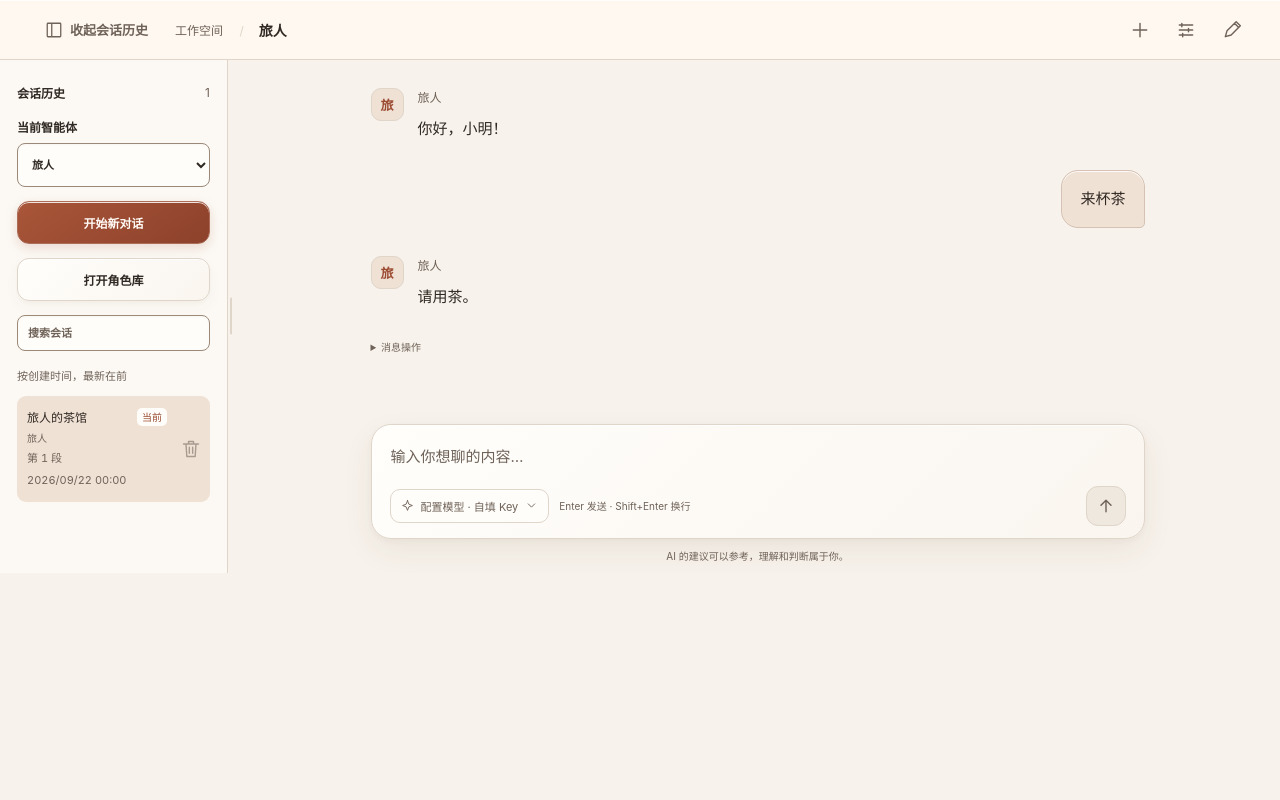
Scenario: keeps a tavern canvas closed even when AI drawing was previously enabled, and can open it manually
Expected: the text "请用茶。" is shown, [418,286,478,306]
Expected: the element "教学画布" is not shown
Click the button named "教学画布".
click(1232, 30)  # box [1212,10,1252,50]
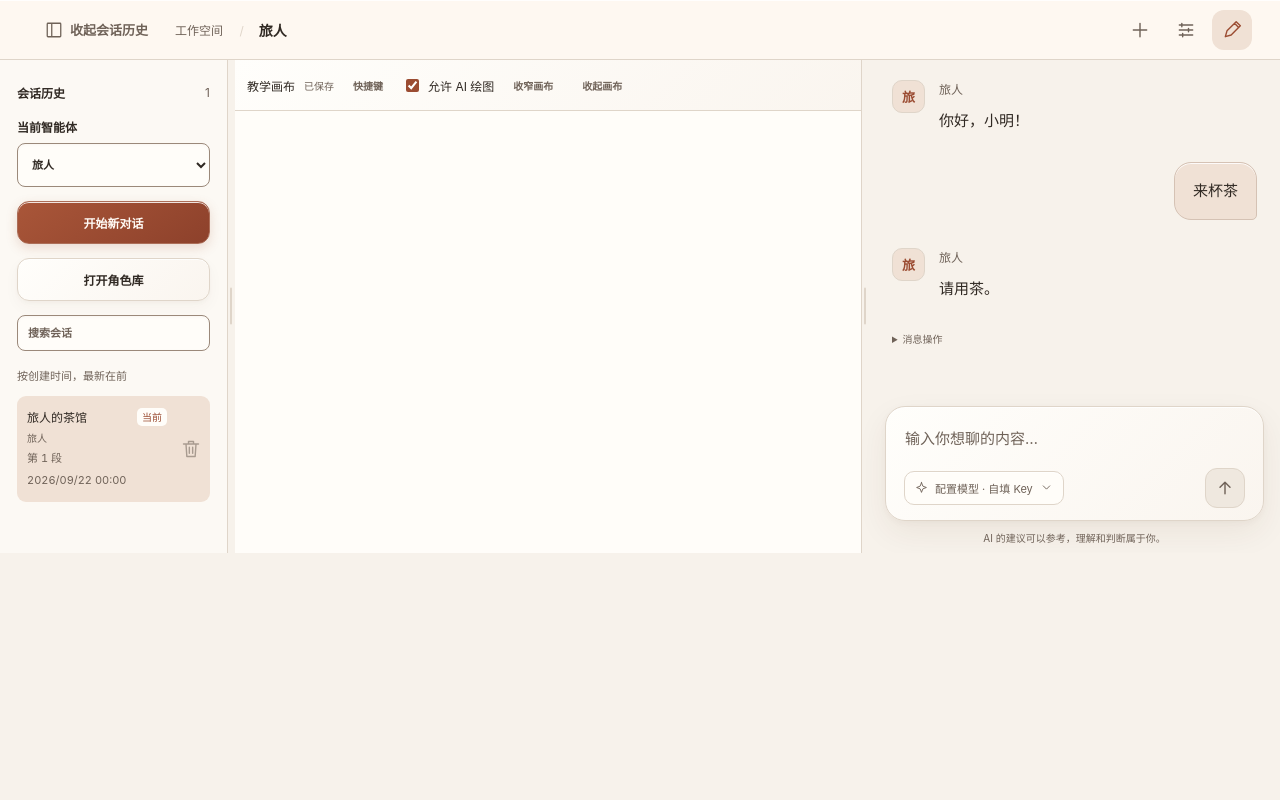
Now the checkbox labelled "允许 AI 绘图" is checked, box [406,78,419,92]
